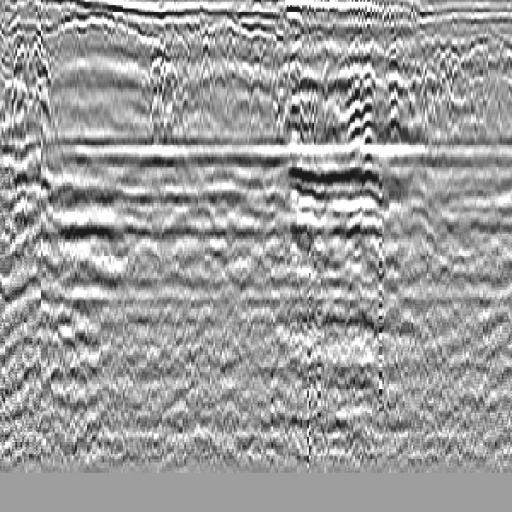non-metallic: (22, 26, 67, 156)
